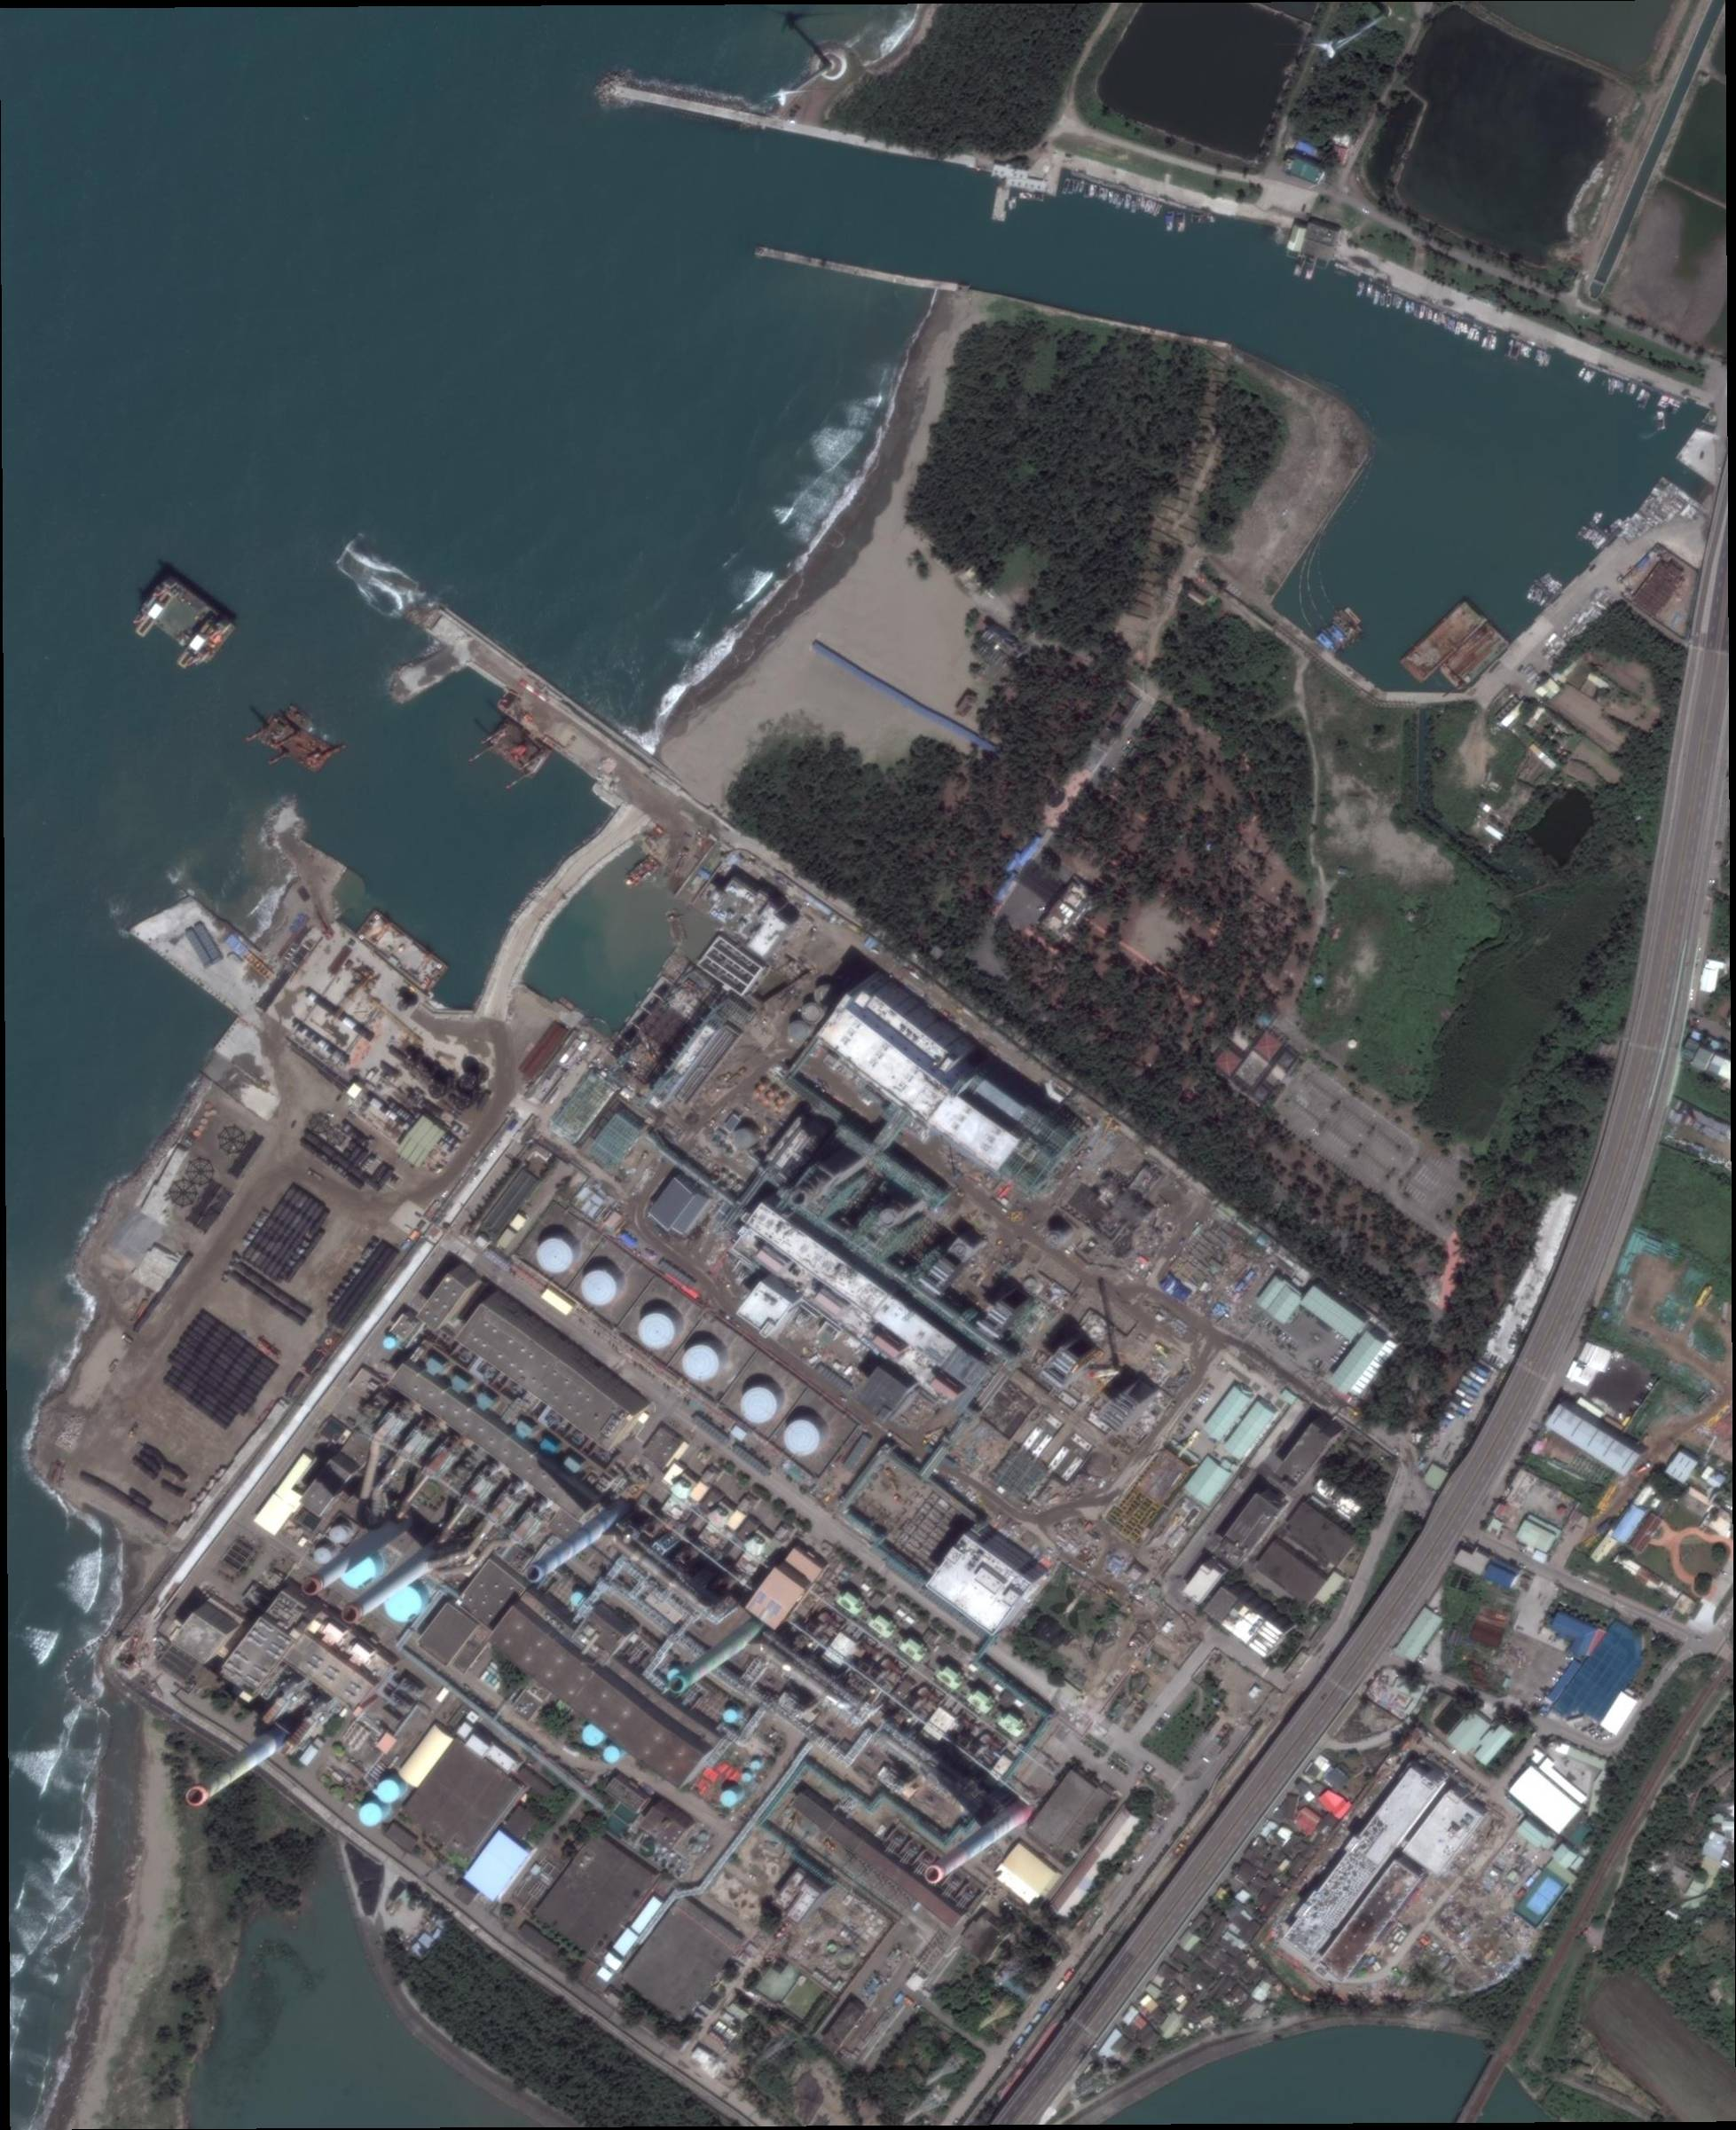bridge: (1456, 2054, 1509, 2123)
harbor: (756, 246, 940, 290)
ship: (356, 908, 449, 996), (1439, 623, 1509, 693)
storage tank: (637, 1313, 674, 1352), (741, 1385, 779, 1424), (683, 1345, 720, 1382), (784, 1421, 821, 1458), (536, 1238, 573, 1274), (580, 1270, 616, 1306), (359, 1803, 382, 1827), (377, 1780, 400, 1803), (733, 1129, 754, 1150), (329, 1525, 347, 1544), (720, 1790, 738, 1808), (603, 1744, 619, 1764), (315, 1548, 331, 1564), (724, 1709, 738, 1723), (750, 1760, 761, 1773), (743, 1773, 752, 1783)
